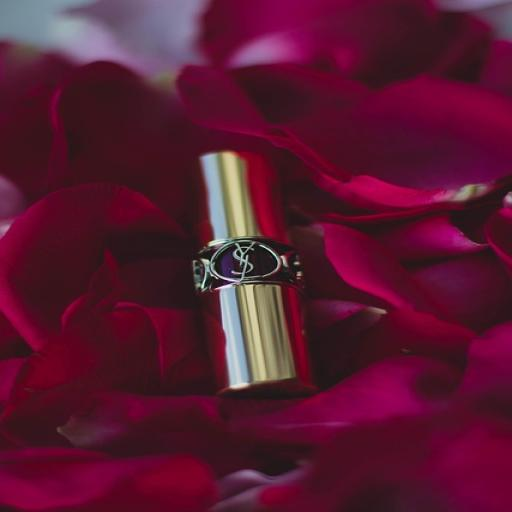lipstick: (195, 152, 315, 396)
